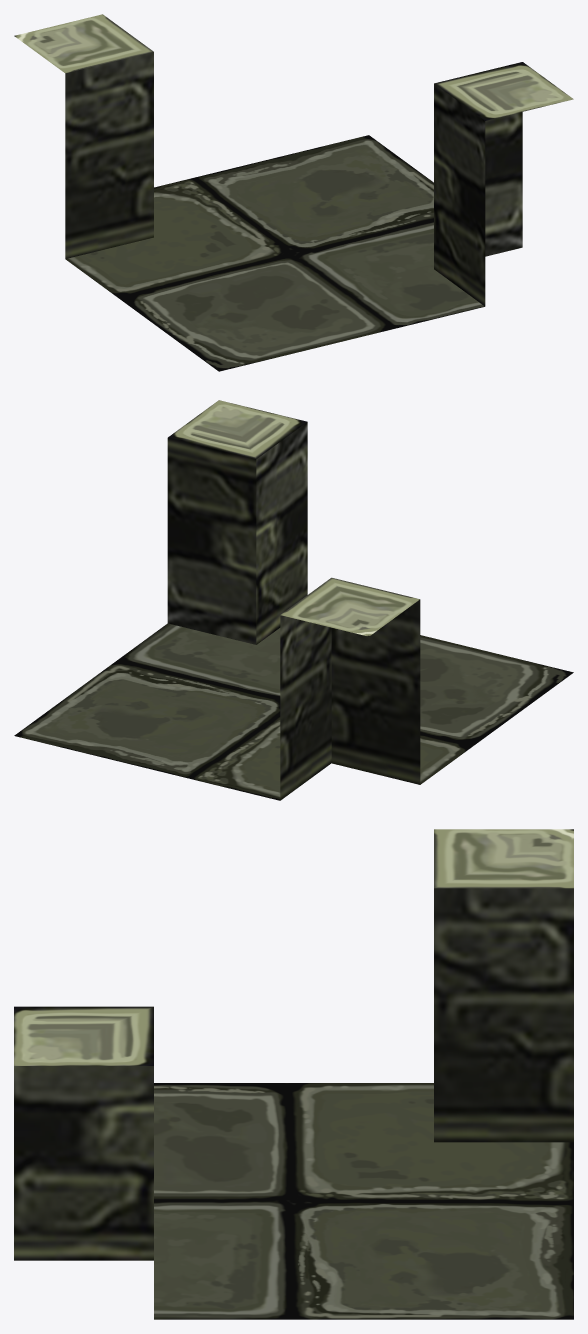
Rendered from double_nitch.fbx.
The picture shows the model from 3 angles, top to bottom: view 1: azimuth 30°, elevation 25°; view 2: azimuth 150°, elevation 25°; view 3: azimuth 270°, elevation 25°; orthographic projection. The views are drawn at different scales.
Parts seen in each view (by area): view 1: double_nitch_geo; view 2: double_nitch_geo; view 3: double_nitch_geo.
Boxes of the visible parts, x1=… form: double_nitch_geo: x1=14, y1=14, x2=573, y2=371; double_nitch_geo: x1=14, y1=400, x2=573, y2=800; double_nitch_geo: x1=14, y1=829, x2=573, y2=1319.
Bounding box in the file's own units: 1 × 0.5 × 1.
Materials: 1 (1 with a texture image).
